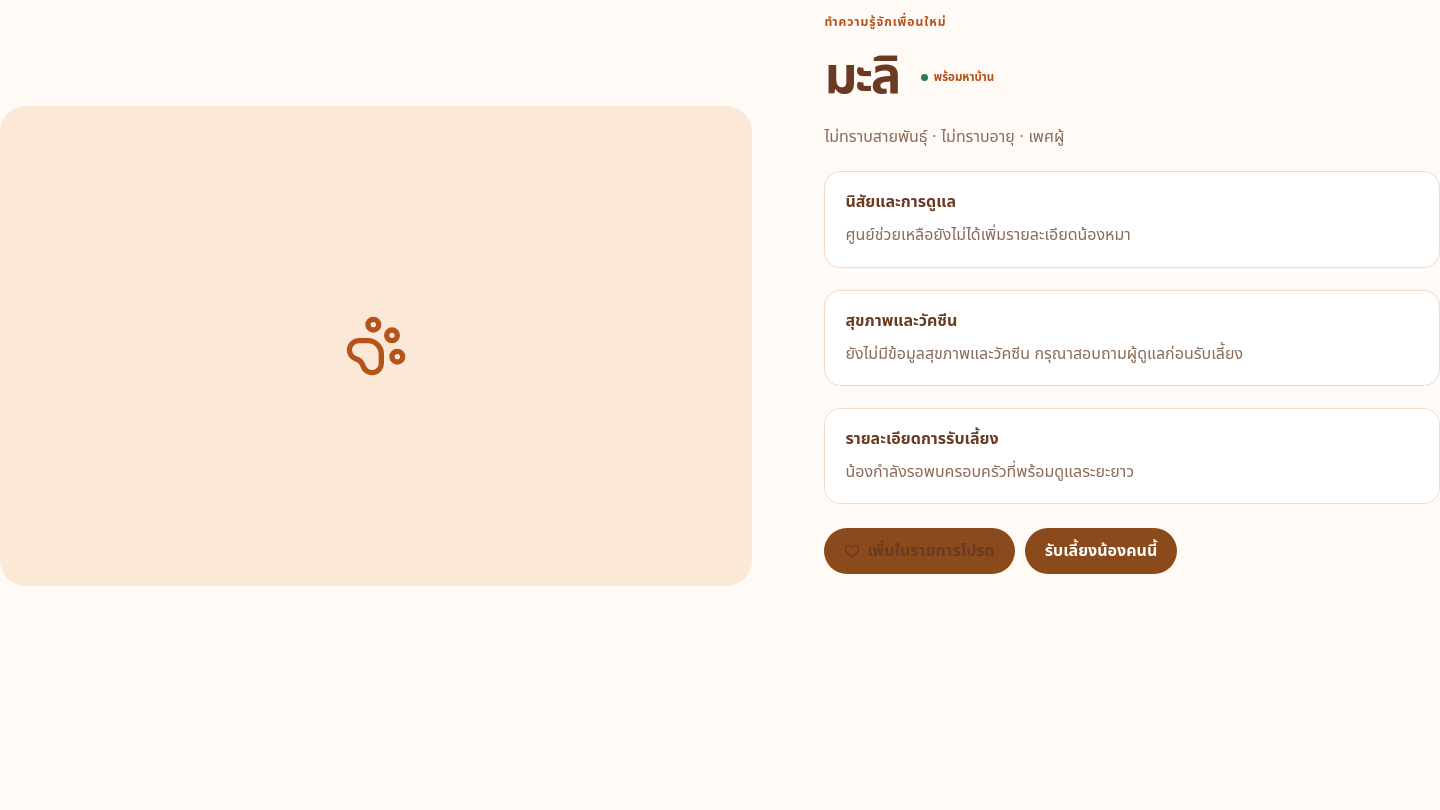
celebrates a successful addition only, then clears the animation
Later steps or results of the test are not shown.
What coordinates should you click on to do the following:
click the button "เพิ่มในรายการโปรด"
I would click on:
 (920, 551)
Its box is [824, 528, 1015, 574].
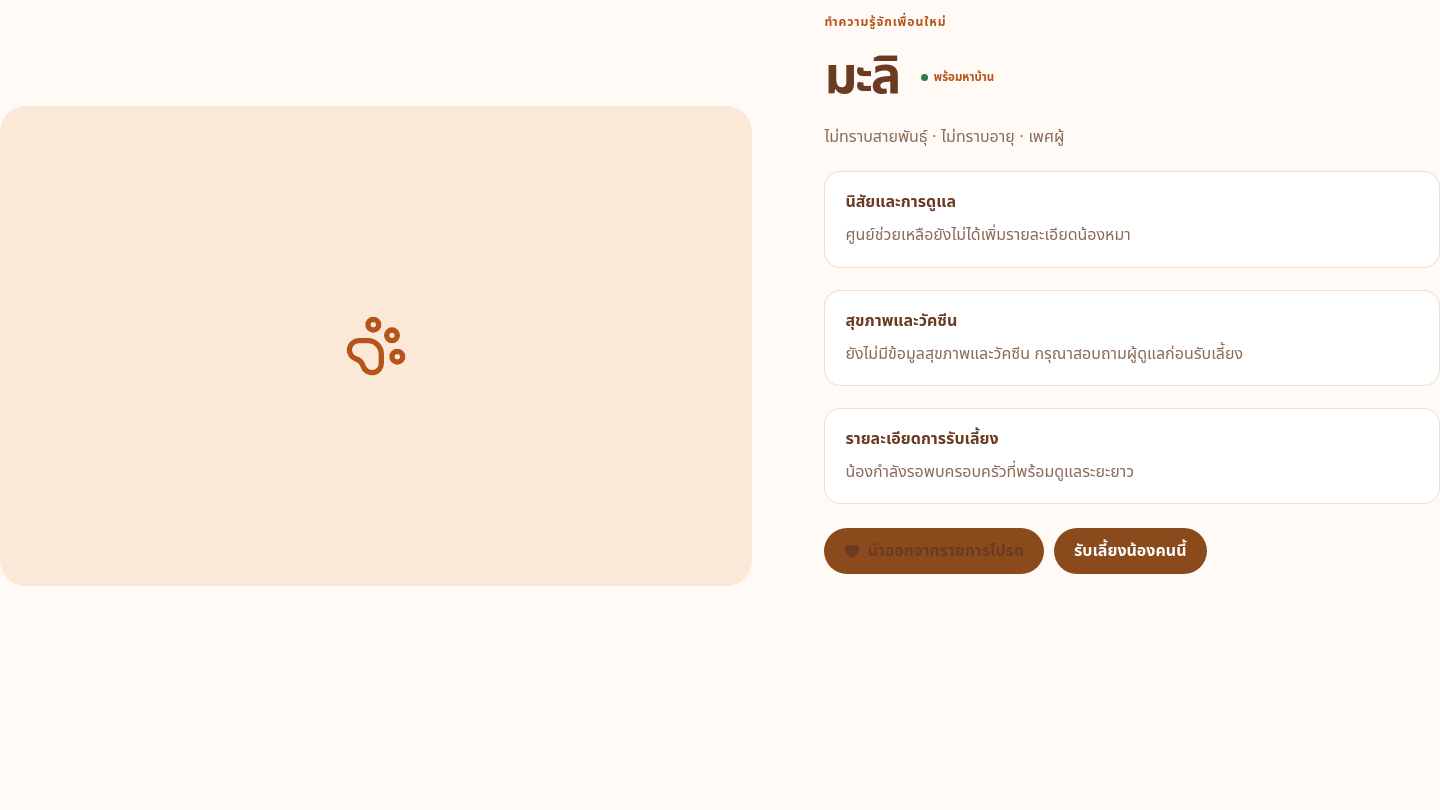
Result: the button named "เพิ่มในรายการโปรด" has class "is-celebrating" at [824, 528, 1044, 574]
